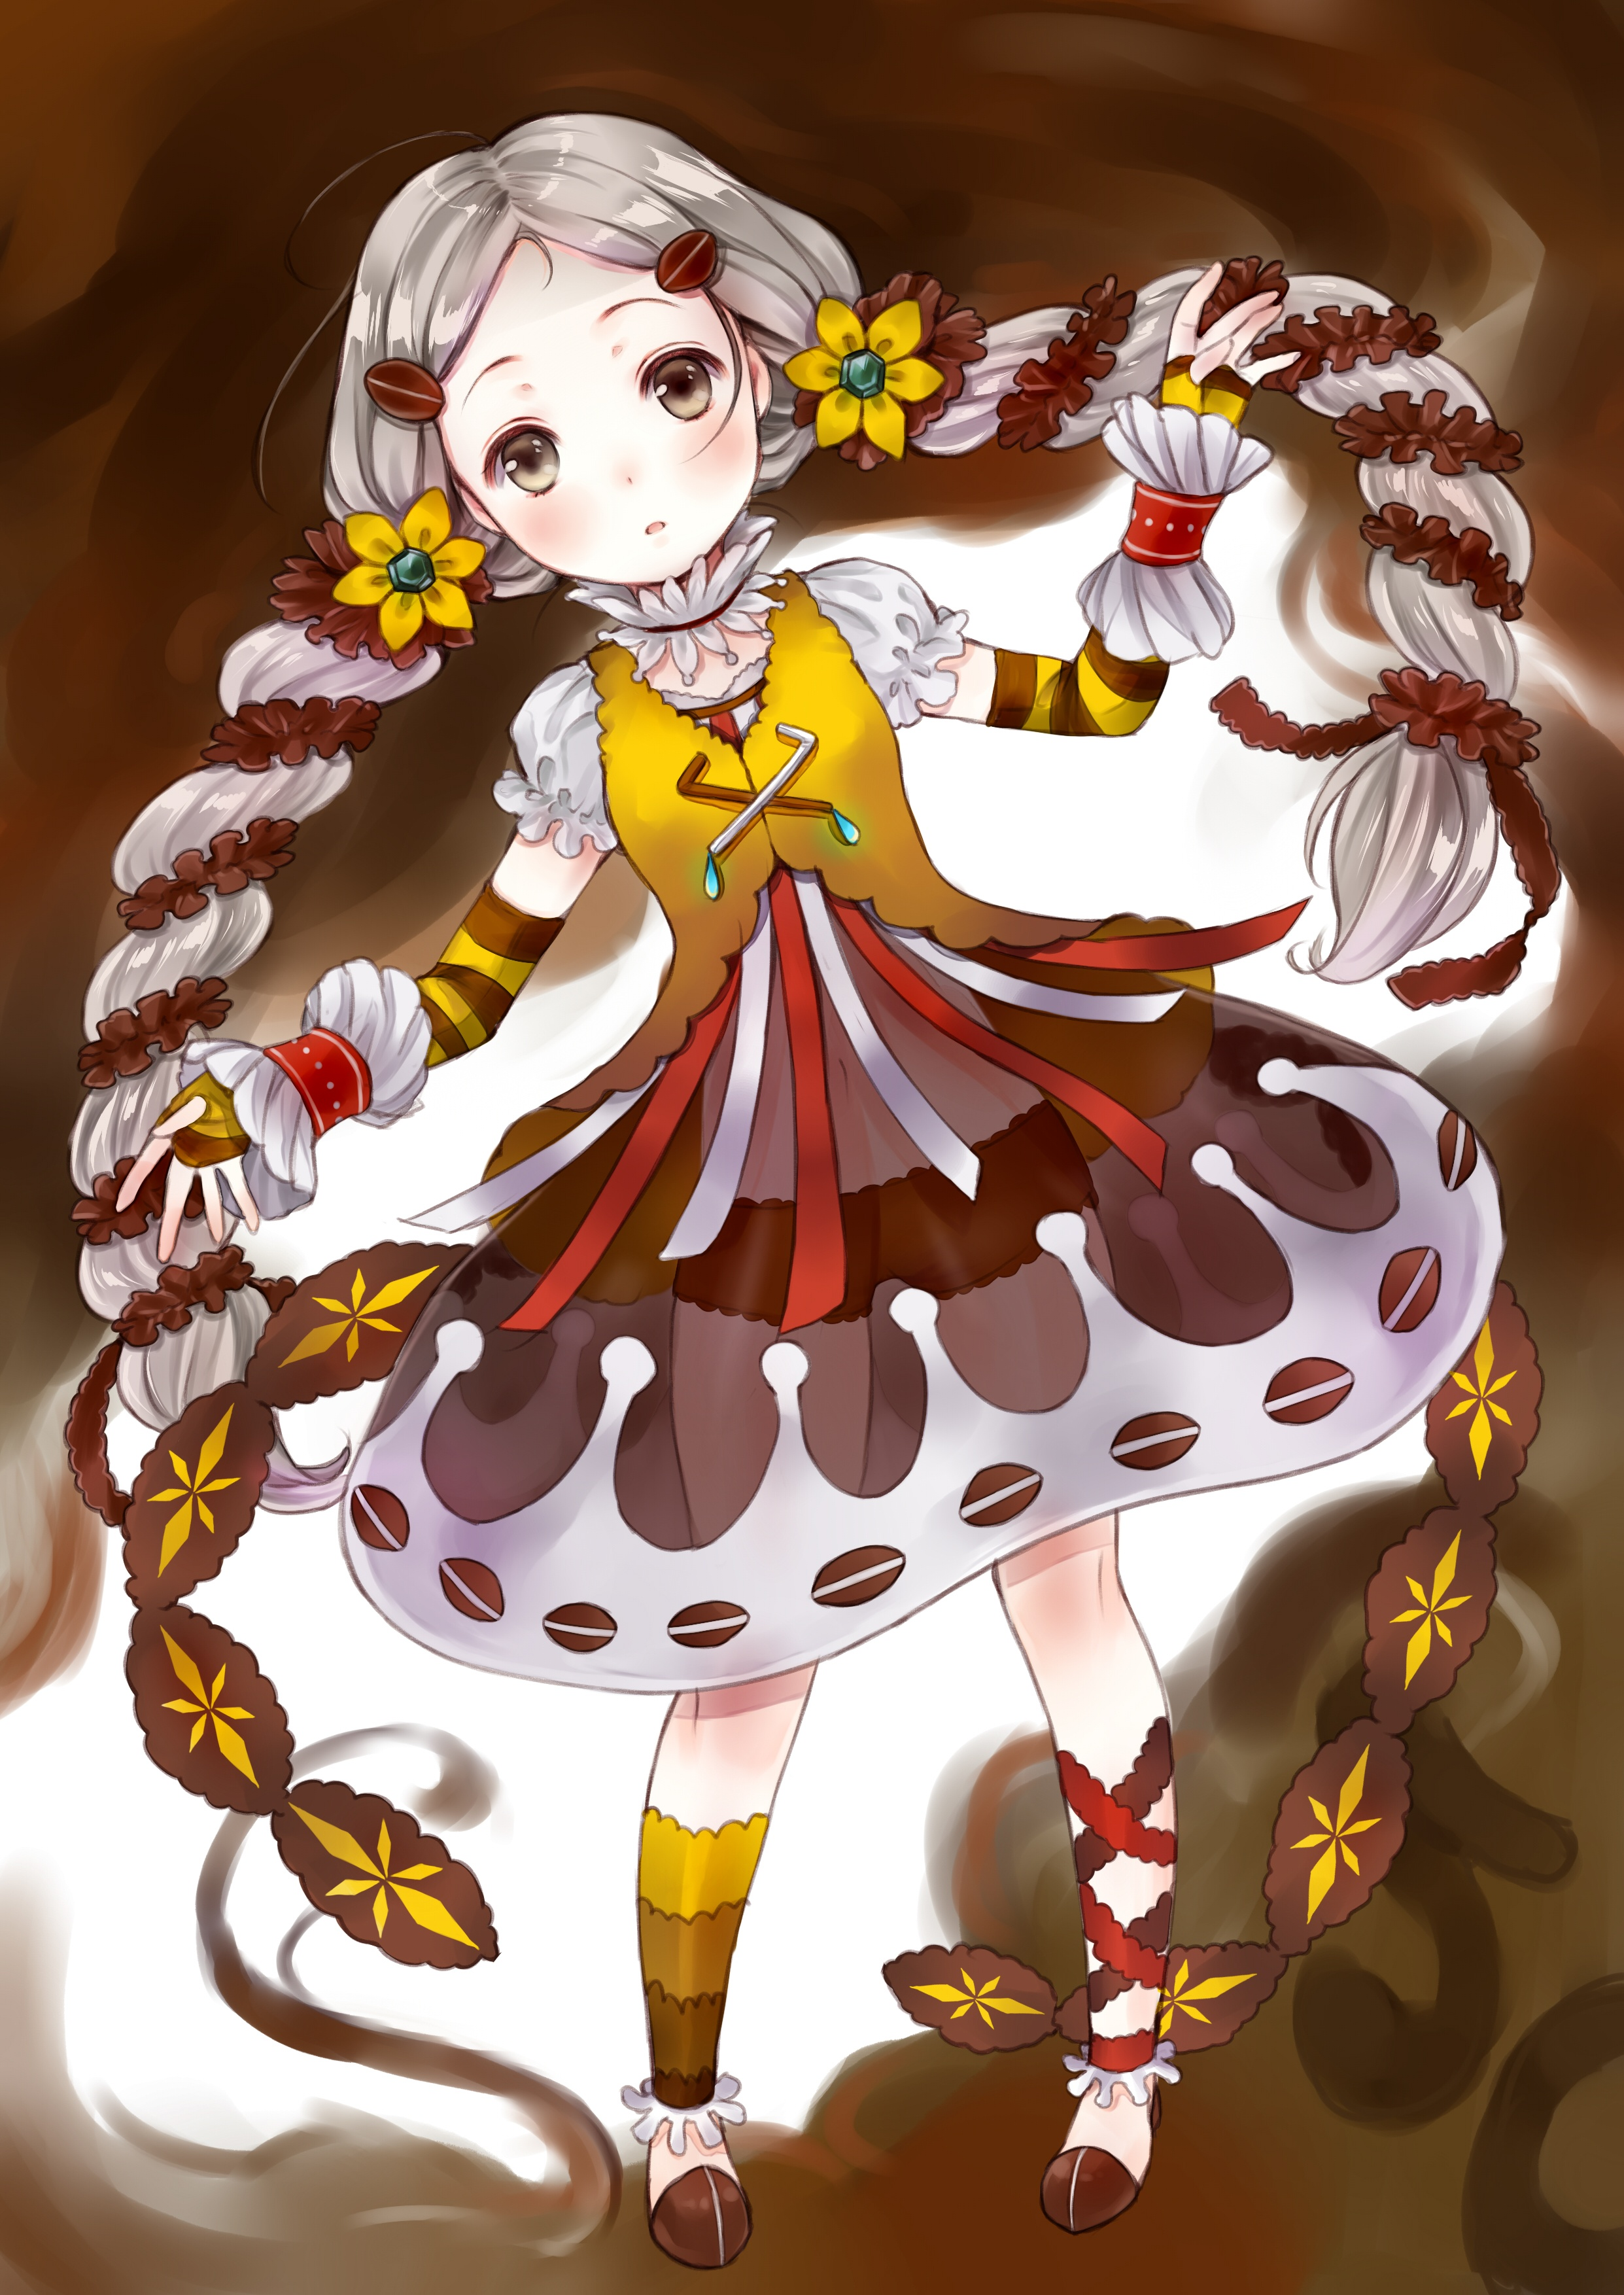纸片人正脸: (317, 94, 839, 609)
